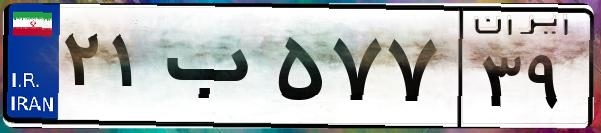1: (110, 28, 158, 98)
2: (57, 26, 110, 100)
3: (475, 38, 525, 113)
5: (270, 28, 330, 110)
7: (385, 28, 445, 110), (330, 28, 385, 110)
9: (525, 38, 570, 115)
ب: (158, 20, 270, 120)
